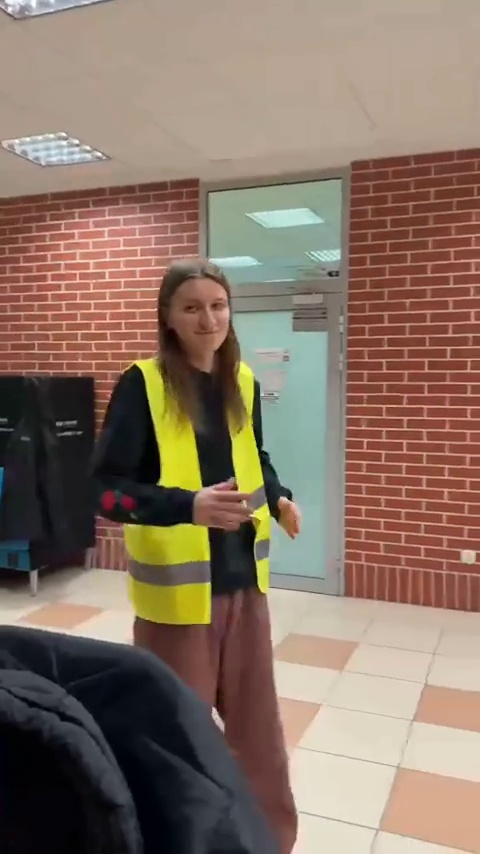vest: (97, 256, 313, 848)
